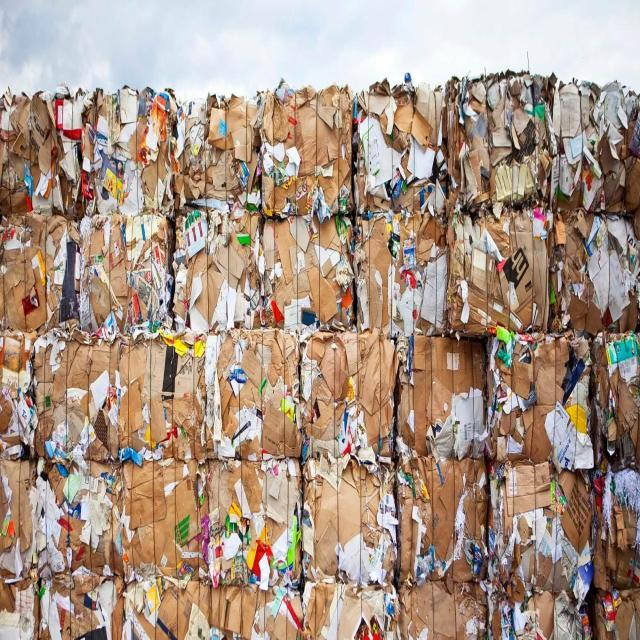paper: (488, 469, 598, 607), (302, 463, 398, 590), (400, 344, 494, 471), (86, 92, 185, 212), (1, 88, 91, 217), (448, 98, 544, 215), (353, 92, 444, 215), (548, 91, 640, 212), (84, 218, 172, 338), (265, 100, 355, 215), (185, 103, 266, 217), (179, 225, 264, 328), (4, 223, 85, 331), (423, 260, 449, 339), (553, 95, 587, 146), (90, 374, 119, 419), (346, 332, 366, 382)
